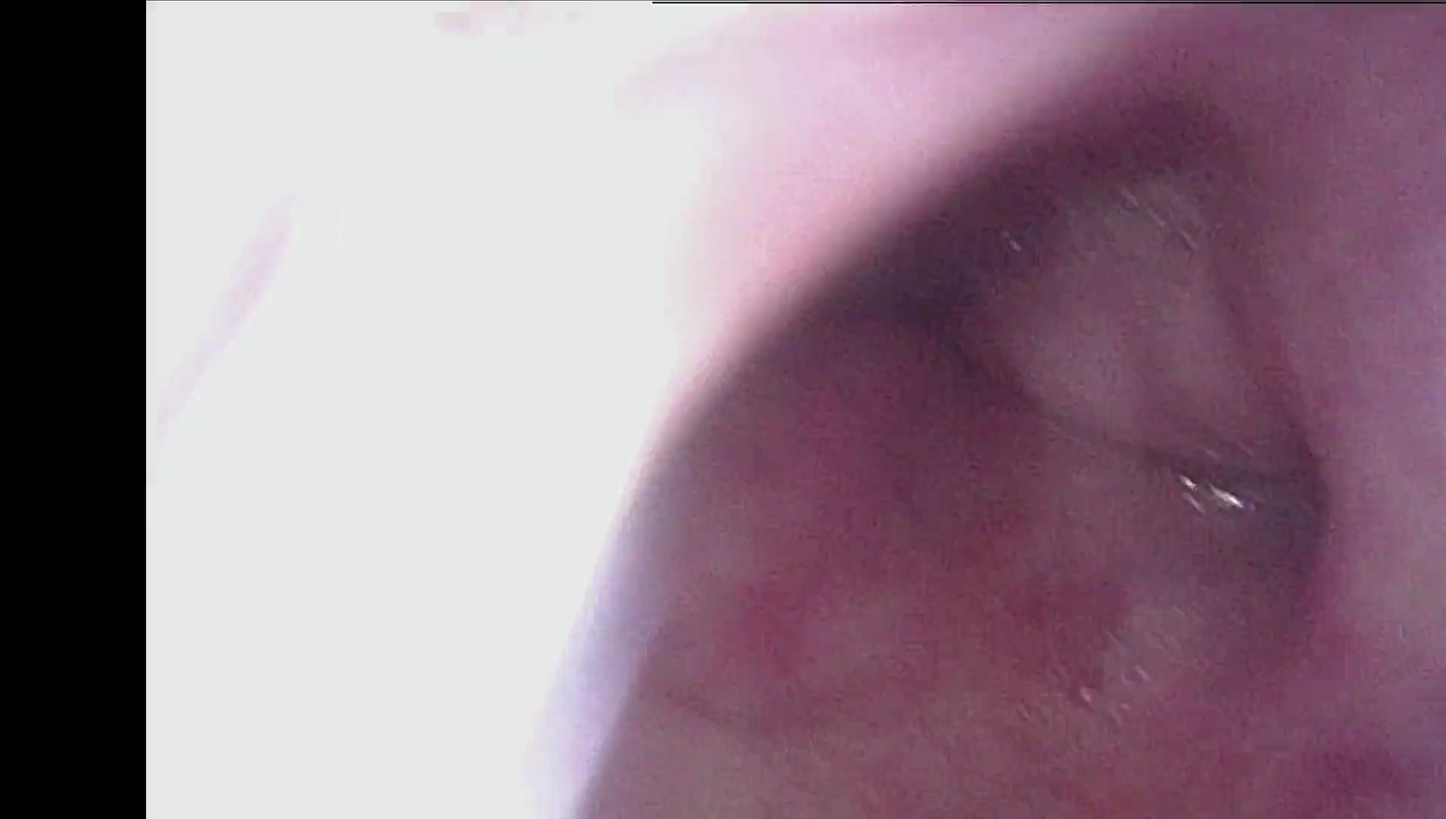close_wall: (157, 11, 1153, 819)
next: (809, 196, 1020, 394)
